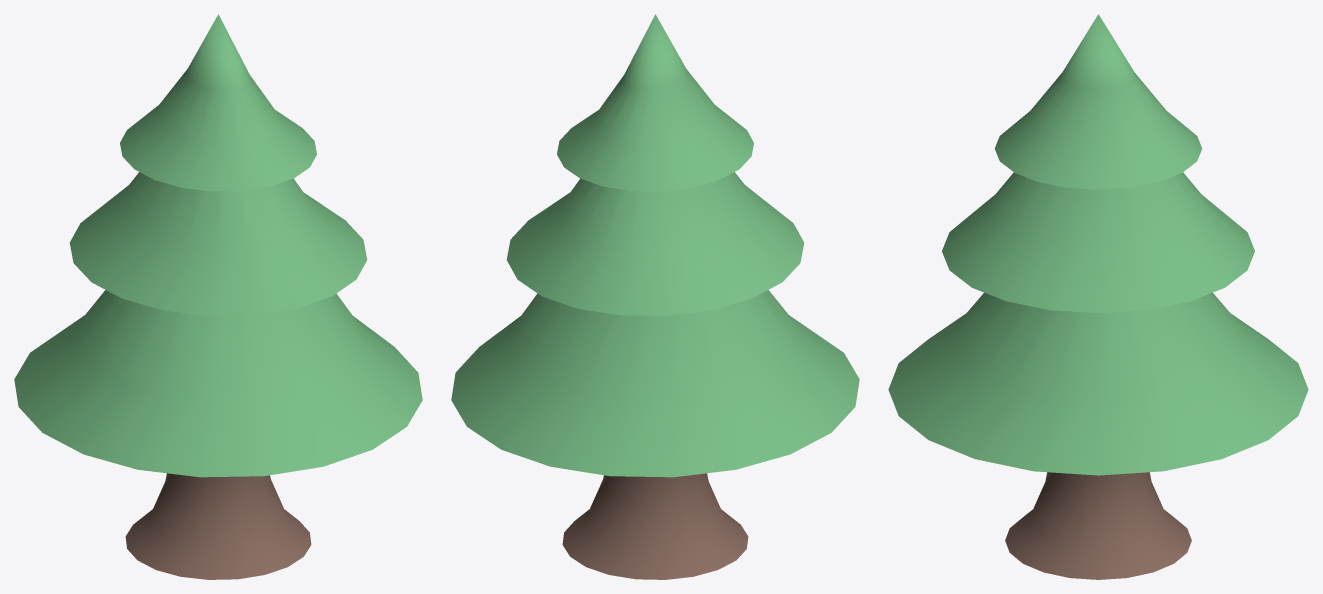
File: tree.fbx
3 renders of one model, left to right at view 1: azimuth 30°, elevation 25°; view 2: azimuth 150°, elevation 25°; view 3: azimuth 270°, elevation 25°, orthographic.
Visible parts, largest first — view 1: pCone2, pCone1, pCone3, pCylinder1; view 2: pCone2, pCone1, pCone3, pCylinder1; view 3: pCone2, pCone1, pCone3, pCylinder1.
Part boxes in pixels (left/top/right/bottom): pCone2: left=14, top=290, right=422, bottom=477; pCone1: left=69, top=172, right=367, bottom=315; pCone3: left=120, top=14, right=316, bottom=191; pCylinder1: left=125, top=473, right=311, bottom=579; pCone2: left=451, top=290, right=859, bottom=477; pCone1: left=506, top=172, right=804, bottom=315; pCone3: left=557, top=14, right=753, bottom=191; pCylinder1: left=562, top=473, right=748, bottom=579; pCone2: left=888, top=292, right=1308, bottom=475; pCone1: left=942, top=172, right=1254, bottom=313; pCone3: left=994, top=14, right=1202, bottom=189; pCylinder1: left=1005, top=472, right=1191, bottom=579.
Bounding box in the file's own units: 3.26 × 4.66 × 3.37.
